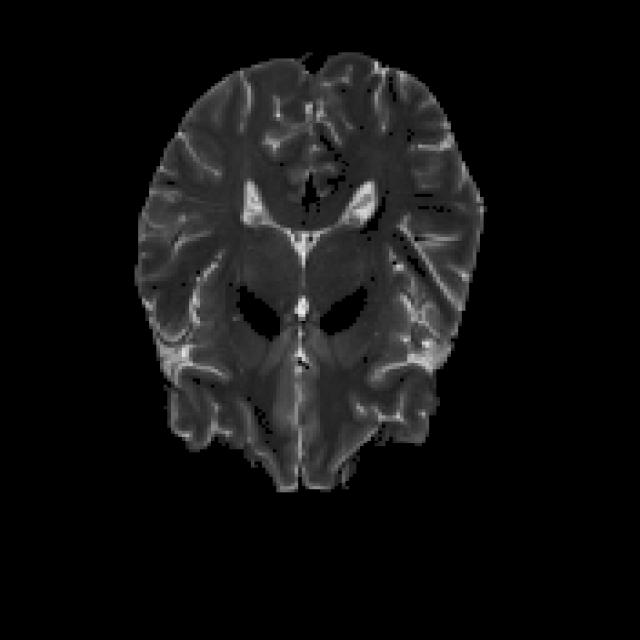parkinson: (131, 50, 487, 492)
